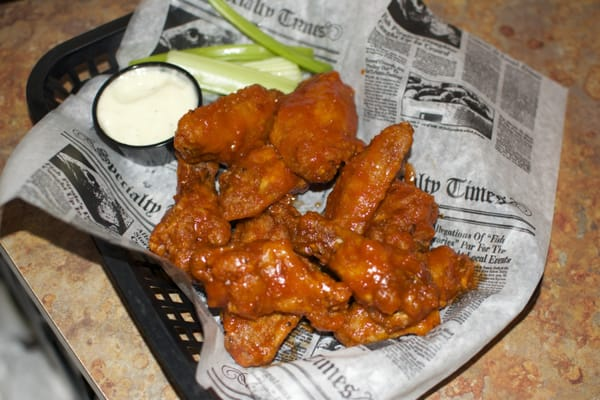curry: (0, 1, 592, 396)
